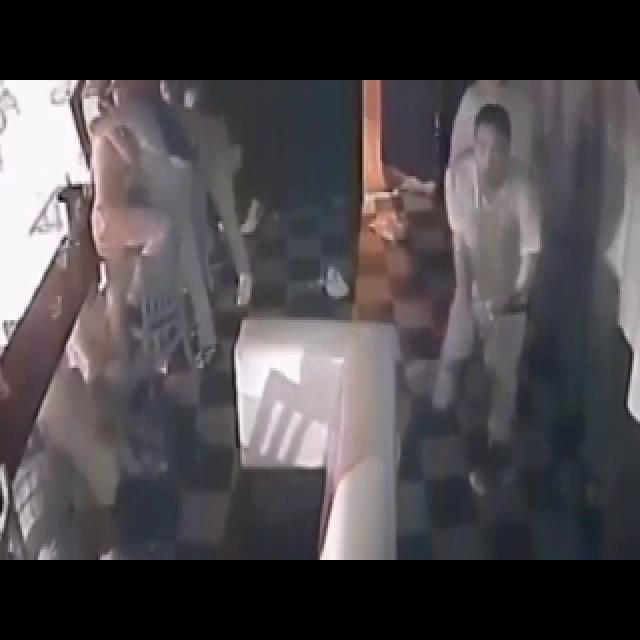shooting: (406, 121, 578, 488)
